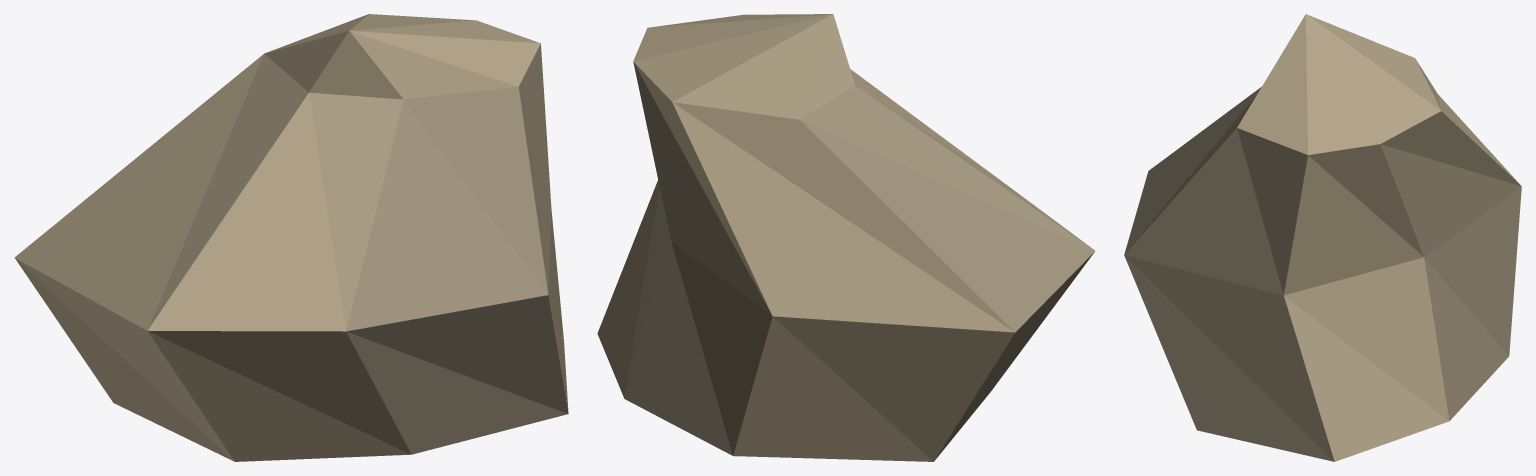
File: rock-small.glb
The picture shows the model from 3 angles, left to right: view 1: azimuth 30°, elevation 25°; view 2: azimuth 150°, elevation 25°; view 3: azimuth 270°, elevation 25°; orthographic projection. The views are drawn at different scales.
Visible parts, largest first — view 1: rock-small; view 2: rock-small; view 3: rock-small.
Part boxes in pixels (box(x1,y1,x2,y2)): rock-small: box(14, 14, 568, 461); rock-small: box(597, 14, 1095, 461); rock-small: box(1124, 14, 1521, 461).
Size of the model in its own units: 0.5316 by 0.39 by 0.4071.
